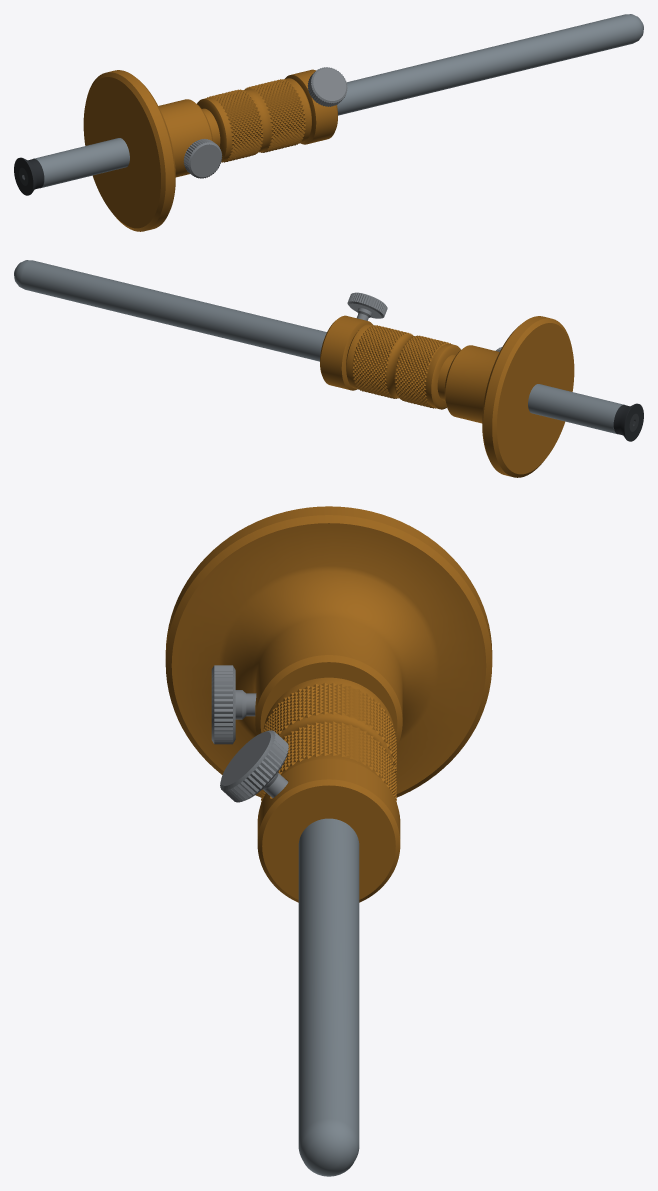
The picture shows the model from 3 angles, top to bottom: view 1: azimuth 30°, elevation 25°; view 2: azimuth 150°, elevation 25°; view 3: azimuth 270°, elevation 25°; orthographic projection. The views are drawn at different scales.
Parts seen in each view (by area): view 1: part_005_Fence_and_stepped_hub, part_001_Round_beam, part_000_Waisted_fine_adjustment_sleeve, part_002_Rear_locking_collar, part_003_Rear_lock_screw, part_004_Fence_lock_screw, part_007_Beveled_marking_wheel; view 2: part_005_Fence_and_stepped_hub, part_001_Round_beam, part_000_Waisted_fine_adjustment_sleeve, part_002_Rear_locking_collar, part_003_Rear_lock_screw, part_007_Beveled_marking_wheel; view 3: part_005_Fence_and_stepped_hub, part_001_Round_beam, part_002_Rear_locking_collar, part_000_Waisted_fine_adjustment_sleeve, part_003_Rear_lock_screw, part_004_Fence_lock_screw.
Part boxes in pixels (x1,y1,x2,y2): part_005_Fence_and_stepped_hub: (83, 70, 220, 231); part_001_Round_beam: (33, 14, 643, 188); part_000_Waisted_fine_adjustment_sleeve: (197, 78, 311, 162); part_002_Rear_locking_collar: (285, 69, 337, 144); part_003_Rear_lock_screw: (307, 67, 347, 106); part_004_Fence_lock_screw: (183, 139, 222, 178); part_007_Beveled_marking_wheel: (14, 157, 44, 195); part_005_Fence_and_stepped_hub: (437, 316, 574, 477); part_001_Round_beam: (14, 260, 624, 434); part_000_Waisted_fine_adjustment_sleeve: (346, 324, 460, 409); part_002_Rear_locking_collar: (320, 315, 372, 390); part_003_Rear_lock_screw: (347, 292, 387, 320); part_007_Beveled_marking_wheel: (613, 403, 643, 441); part_005_Fence_and_stepped_hub: (165, 506, 492, 797); part_001_Round_beam: (298, 818, 359, 1176); part_002_Rear_locking_collar: (257, 759, 400, 902); part_000_Waisted_fine_adjustment_sleeve: (261, 677, 396, 802); part_003_Rear_lock_screw: (220, 730, 288, 802); part_004_Fence_lock_screw: (211, 665, 256, 744).
Bounding box in the file's own units: 0.188 × 0.043 × 0.043.
